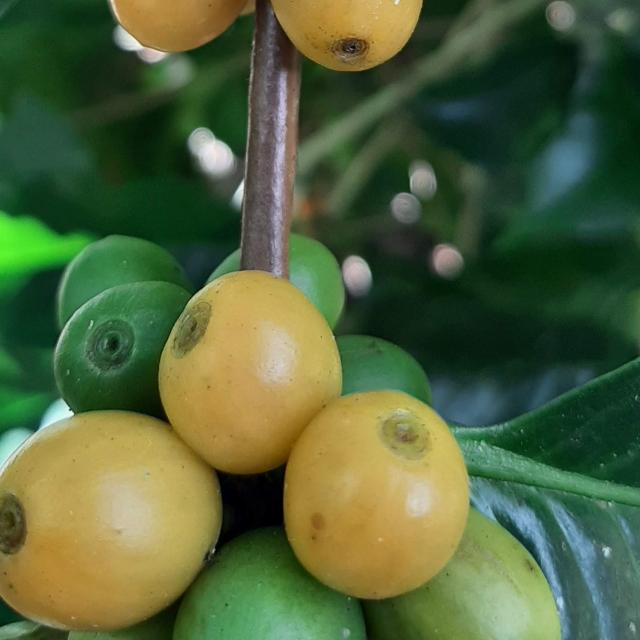green: (365, 510, 562, 640), (172, 527, 366, 640), (53, 281, 190, 419), (56, 235, 194, 329), (336, 335, 432, 406), (289, 233, 345, 329), (206, 248, 241, 284)
red: (271, 0, 423, 70), (109, 0, 247, 51)
yellow: (0, 411, 221, 632), (284, 391, 470, 601), (158, 270, 342, 475)
